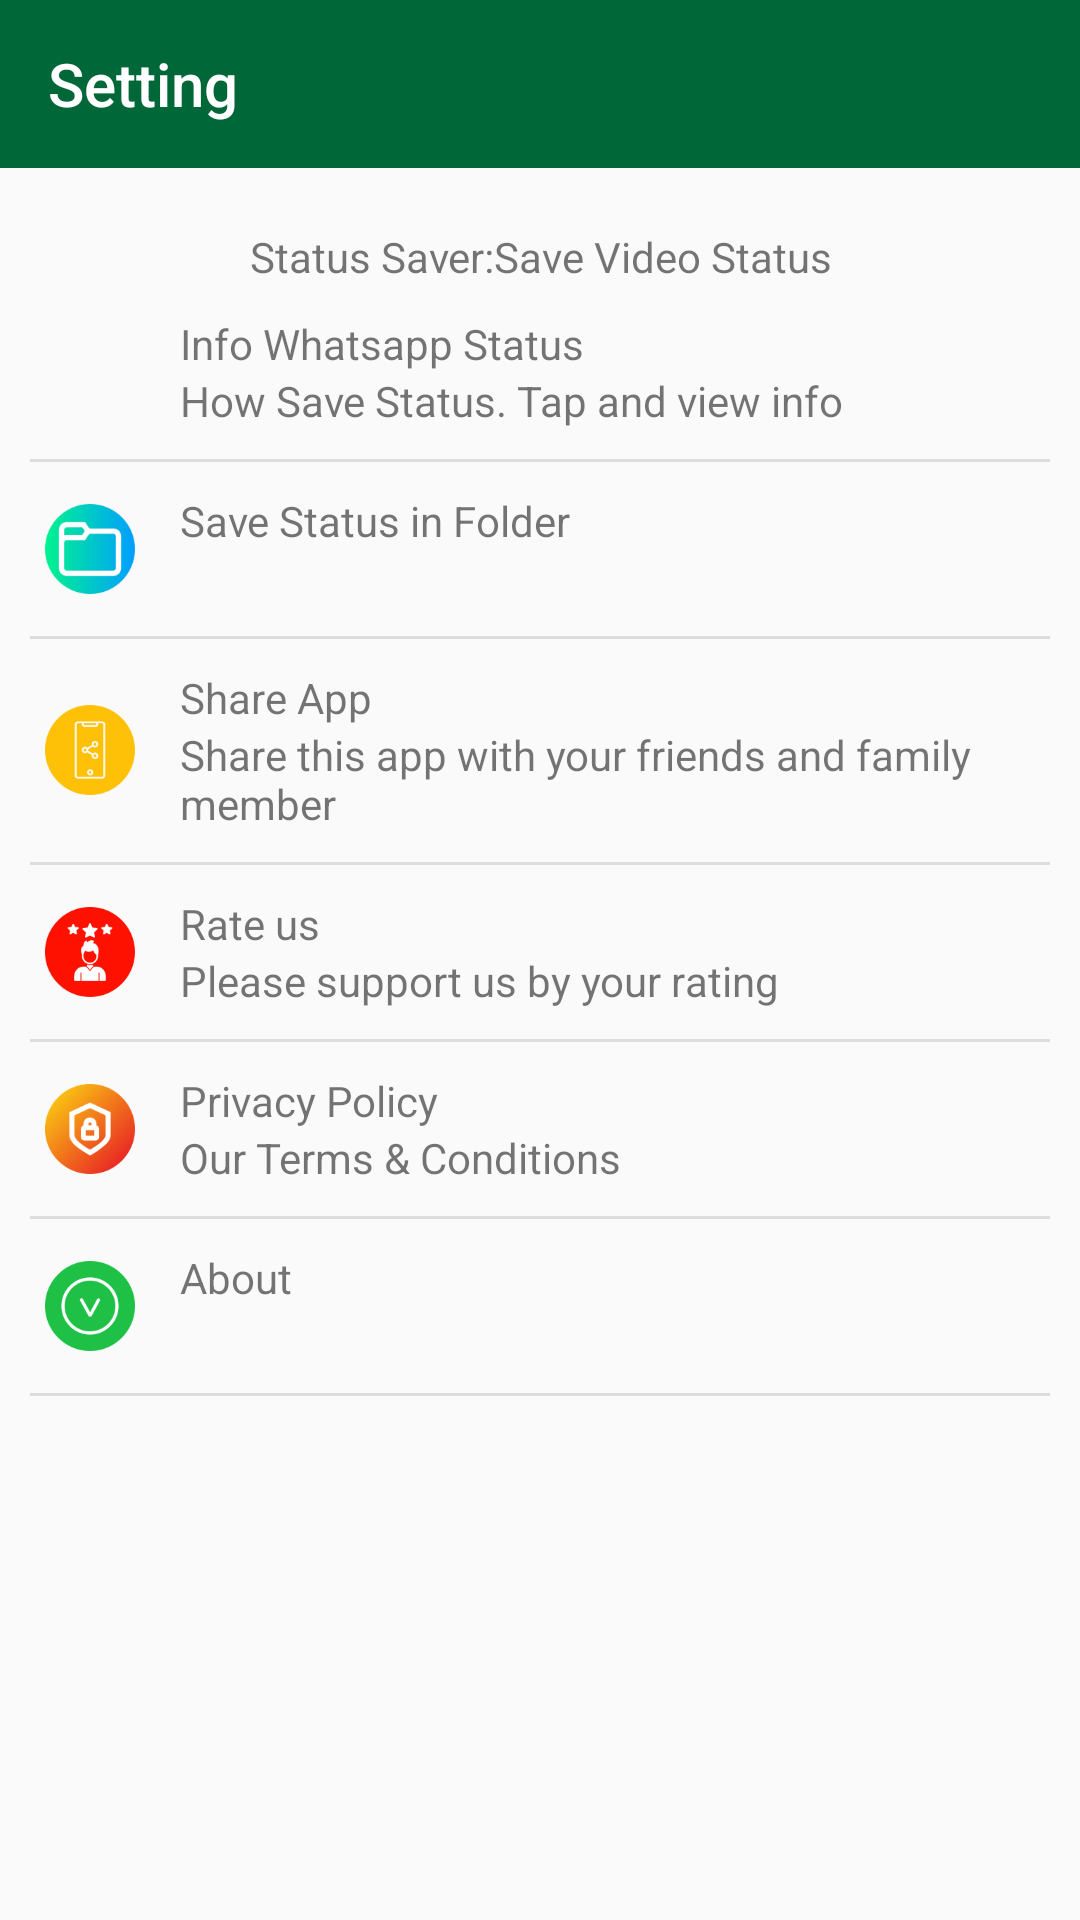

Screen size 1080px x 1920px. Icon name, then its center in pixels as [x,y]:
share setting: [90,750]
version: [90,1306]
